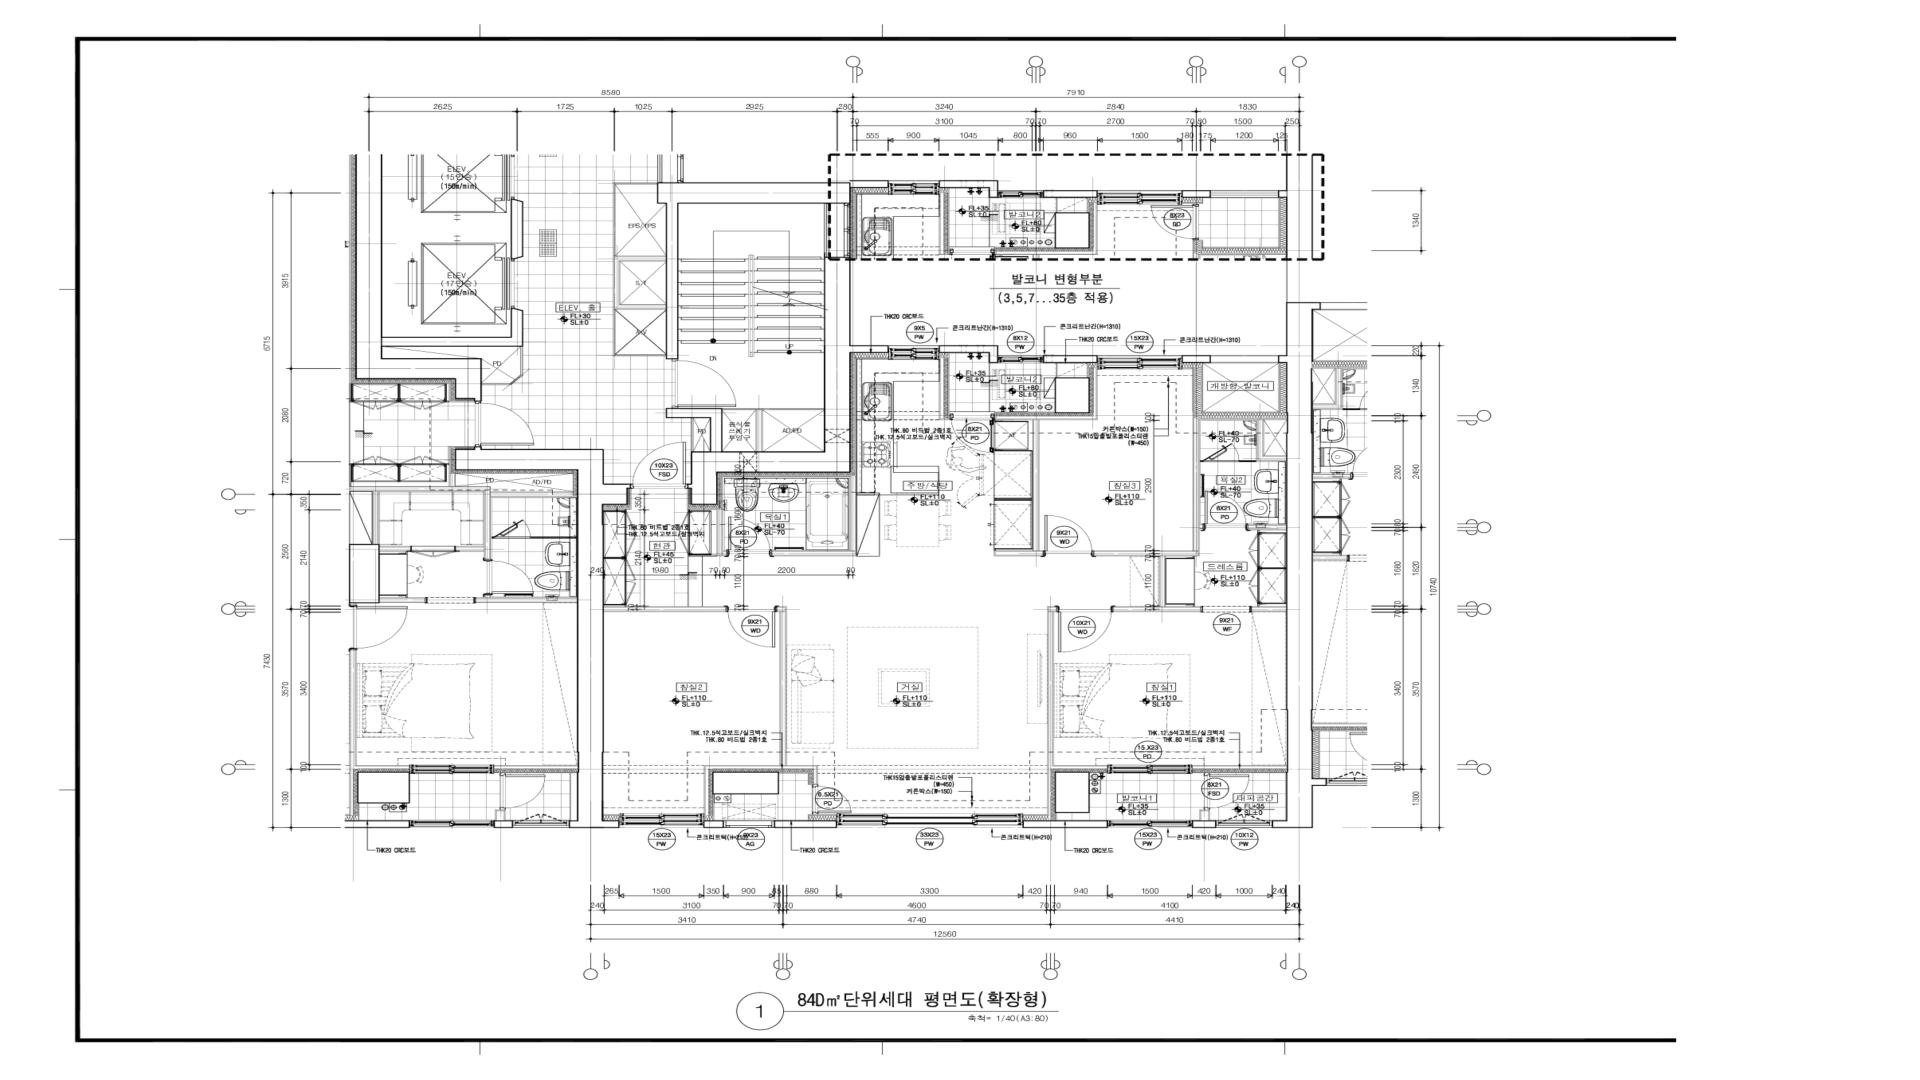door: (671, 359, 737, 407), (1056, 605, 1113, 653), (630, 442, 688, 488), (725, 605, 778, 649), (1043, 514, 1095, 556), (1203, 491, 1249, 531), (727, 516, 773, 556), (949, 411, 994, 452), (1199, 773, 1245, 810), (812, 785, 852, 815), (1200, 443, 1240, 462), (1201, 605, 1251, 613)
wall: (1286, 302, 1313, 828), (576, 471, 604, 828), (355, 154, 382, 380), (824, 257, 851, 472), (657, 182, 851, 203), (455, 450, 604, 471), (691, 451, 824, 472), (382, 357, 481, 378), (666, 203, 679, 359), (777, 607, 787, 765), (712, 771, 779, 794), (382, 336, 524, 347), (1055, 771, 1089, 814), (1047, 612, 1054, 815), (1033, 419, 1040, 550), (687, 472, 717, 505), (1193, 419, 1200, 551), (510, 199, 524, 260), (1095, 550, 1200, 556), (848, 476, 857, 550), (1022, 820, 1108, 828), (604, 607, 725, 612), (1154, 556, 1166, 607), (455, 378, 481, 401), (709, 409, 723, 451), (773, 550, 857, 556), (604, 484, 630, 505), (716, 509, 727, 556), (774, 820, 837, 828), (1113, 607, 1201, 612), (666, 407, 709, 418), (708, 765, 818, 769), (1043, 355, 1097, 363), (994, 415, 1097, 419), (939, 345, 989, 353), (754, 410, 764, 451), (510, 309, 524, 336), (613, 256, 666, 262), (613, 261, 621, 305), (1257, 421, 1265, 462), (994, 550, 1043, 556), (851, 345, 889, 353), (613, 305, 666, 310), (1192, 766, 1286, 769), (939, 357, 943, 419), (1249, 524, 1286, 530), (711, 509, 716, 555), (1182, 355, 1211, 363), (1251, 605, 1286, 612), (704, 765, 708, 815), (613, 182, 616, 256), (1093, 368, 1097, 417), (1192, 820, 1216, 828), (703, 820, 724, 828), (989, 345, 998, 363), (1054, 766, 1108, 769), (1265, 455, 1286, 462), (723, 409, 824, 410), (510, 375, 522, 385), (604, 820, 620, 828), (613, 310, 616, 356), (1200, 810, 1211, 820), (616, 182, 657, 185), (1273, 820, 1286, 828), (691, 418, 694, 451), (481, 382, 510, 385), (520, 347, 522, 376), (616, 355, 666, 356), (814, 769, 818, 785), (1278, 356, 1286, 363), (1047, 607, 1056, 612), (1240, 460, 1257, 462), (1200, 524, 1203, 529)
window: (837, 814, 1023, 828), (824, 203, 851, 257), (1097, 355, 1183, 369), (620, 814, 704, 828), (1216, 814, 1273, 828), (1108, 765, 1192, 774), (889, 345, 939, 360), (1108, 820, 1192, 828), (1211, 355, 1278, 363), (998, 355, 1043, 364), (724, 820, 774, 828)
